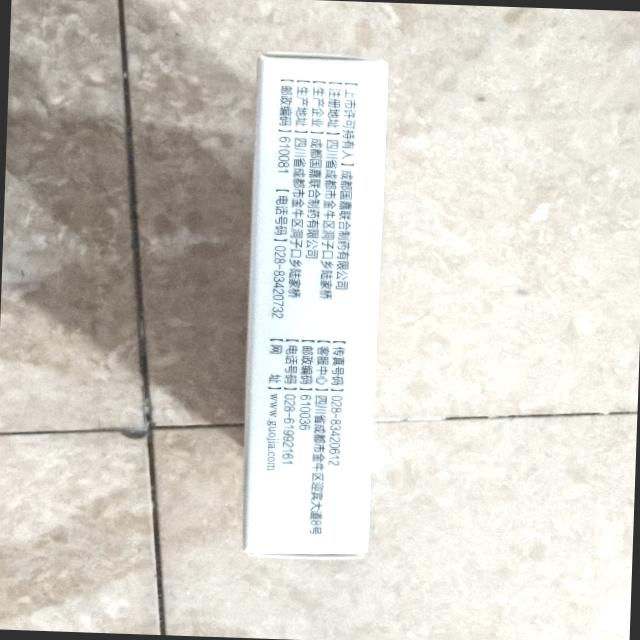box: (225, 38, 404, 569)
